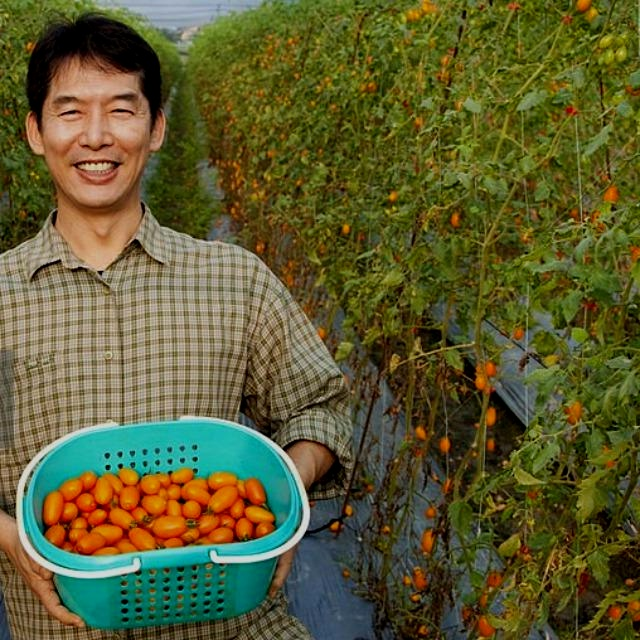Sin_Casco_Mascarrilla: (22, 12, 166, 208)
Sin_Chaleco: (2, 214, 252, 483)
